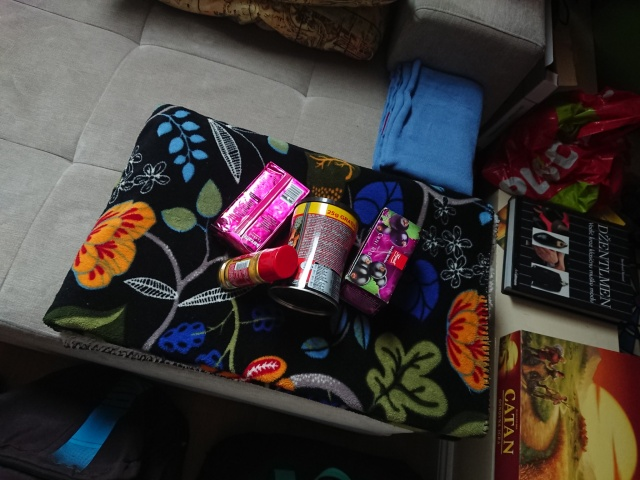Barcaffe Classic Original 225g: (207, 160, 313, 260)
Franck Black Currant Tea 60g: (334, 204, 424, 319)
Kotanyi Curry Spices Mix 70g: (215, 244, 300, 292)
Nescafe Classic 225g: (267, 194, 364, 319)
